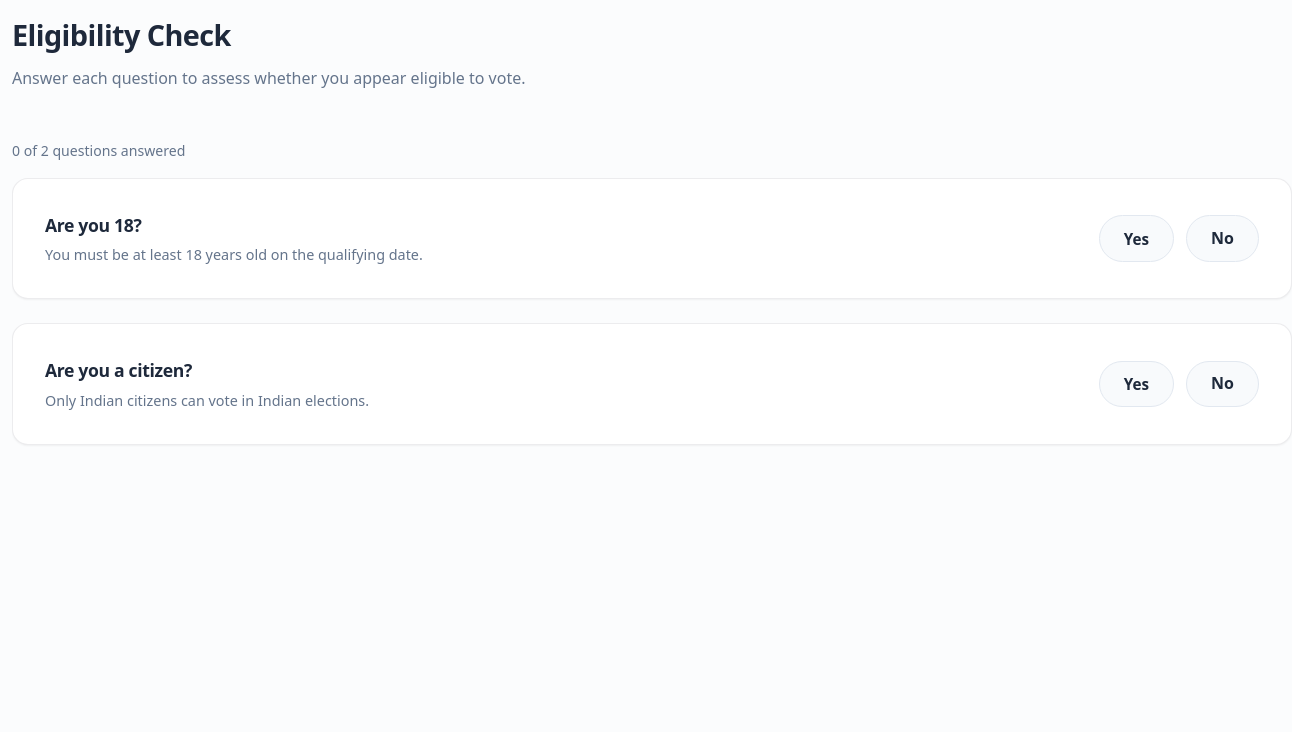
EligibilityChecker › shows a review state when any answer is no
expect the heading "Are you 18?" is shown: met, box top-left (45, 213), bottom-right (141, 237)
Step 1. Click the button with aria-label "Yes, Are you 18?" → coordinates (1136, 239), box top-left (1099, 215), bottom-right (1174, 262)
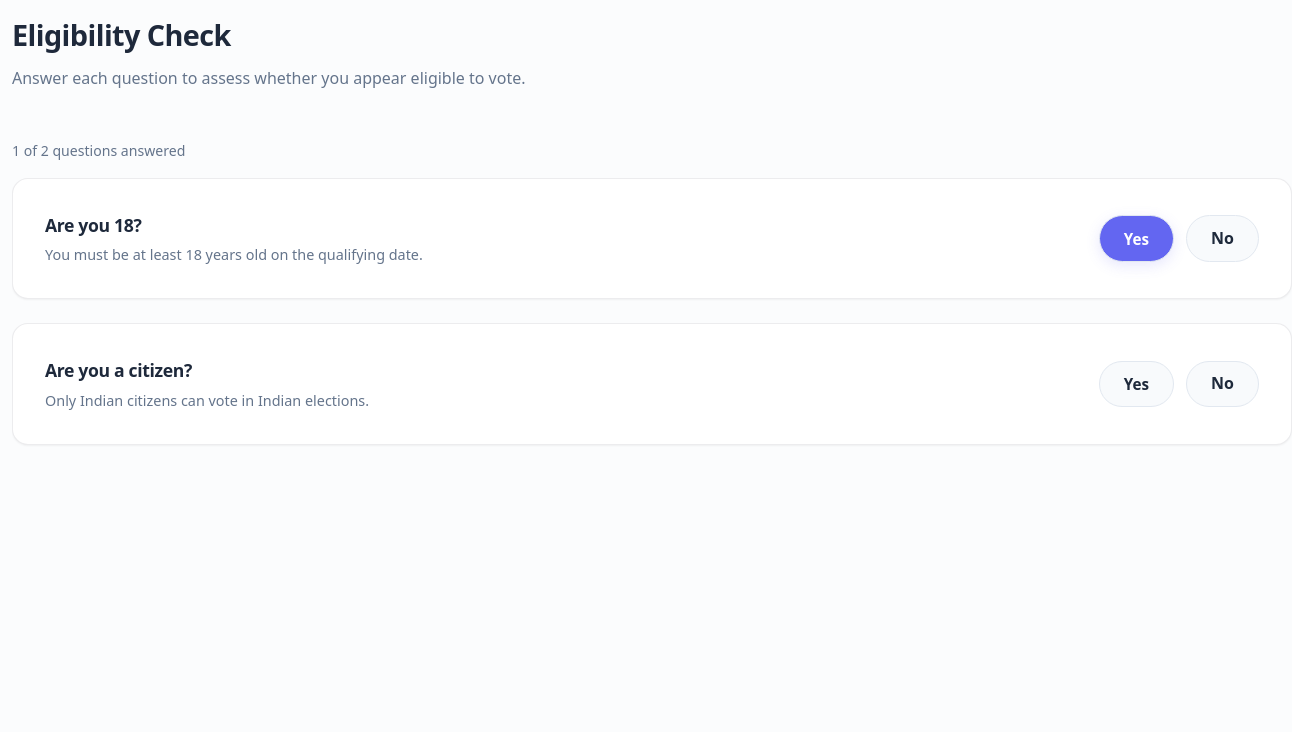
Step 2. Click the button with aria-label "No, Are you a citizen?" → coordinates (1223, 384), box top-left (1186, 361), bottom-right (1259, 407)
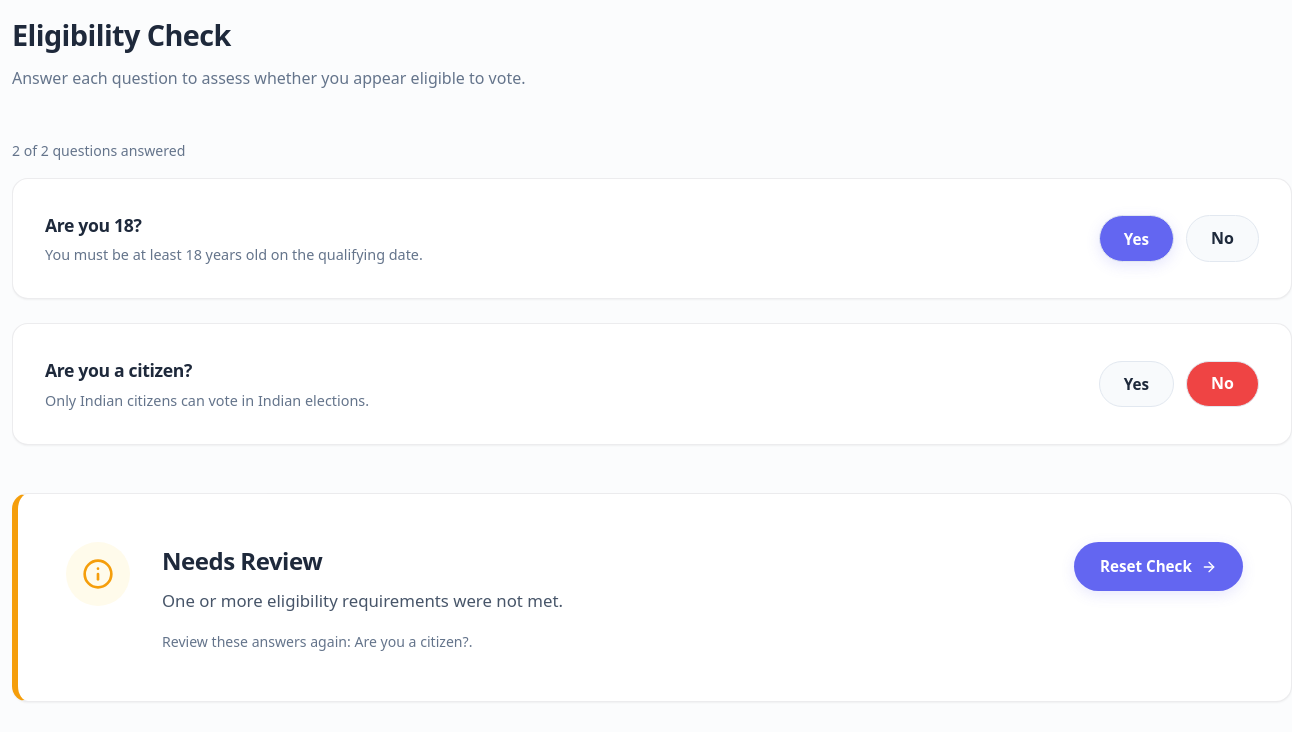
expect the heading "Needs Review" is shown: met, box top-left (162, 544), bottom-right (322, 576)
expect the text "Review these answers again: Are you a citizen?." is shown: met, box top-left (162, 632), bottom-right (472, 651)
